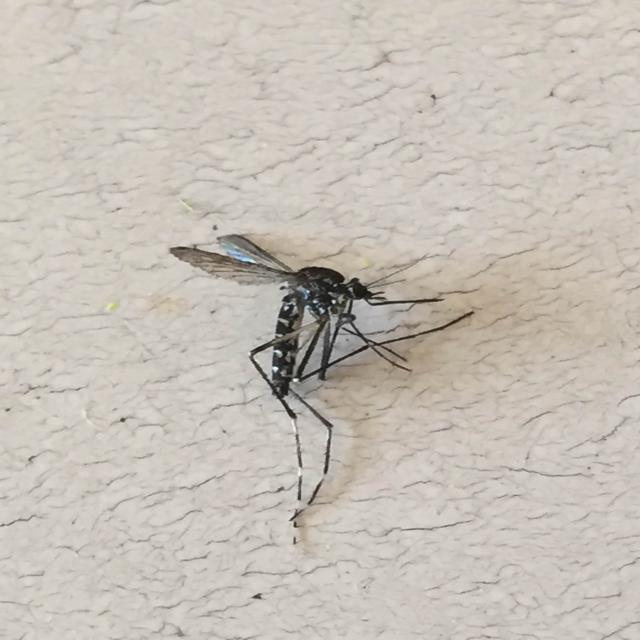albopictus: (162, 200, 474, 530)
